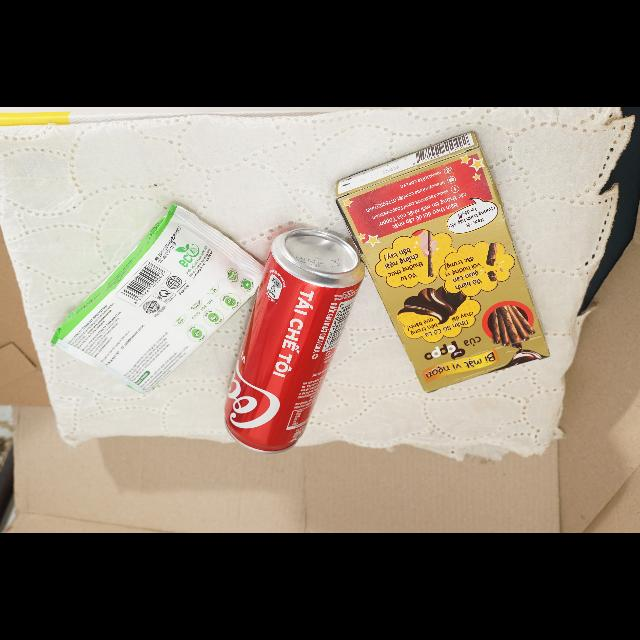banh_toppo_socola: (335, 132, 550, 392)
coca_cola: (225, 228, 364, 452)
khan_giay: (52, 205, 262, 392)
